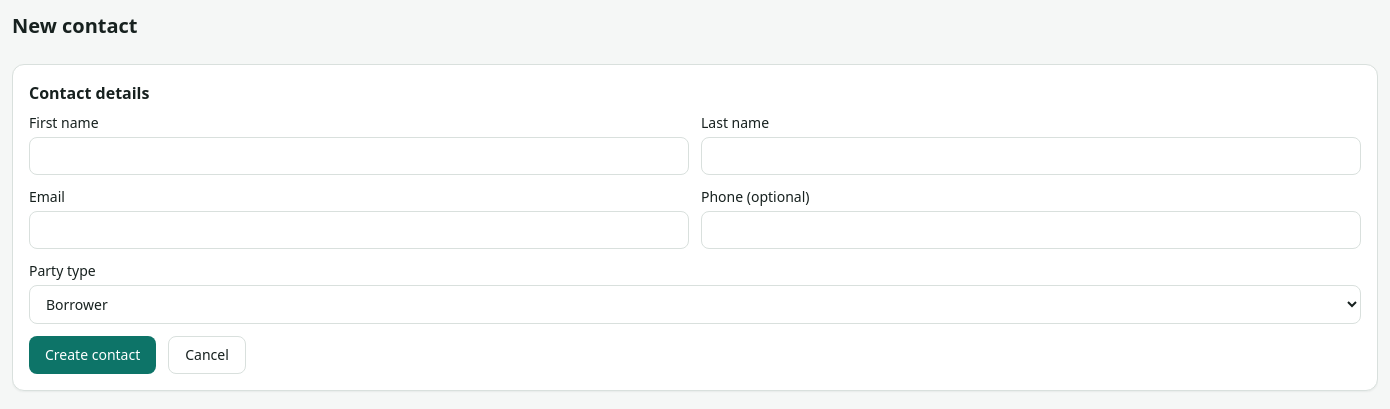
ContactFormPage › creates a contact and returns to the list
Type "Ann" into the field labelled "First name" at (359, 156), box [29, 137, 689, 175]
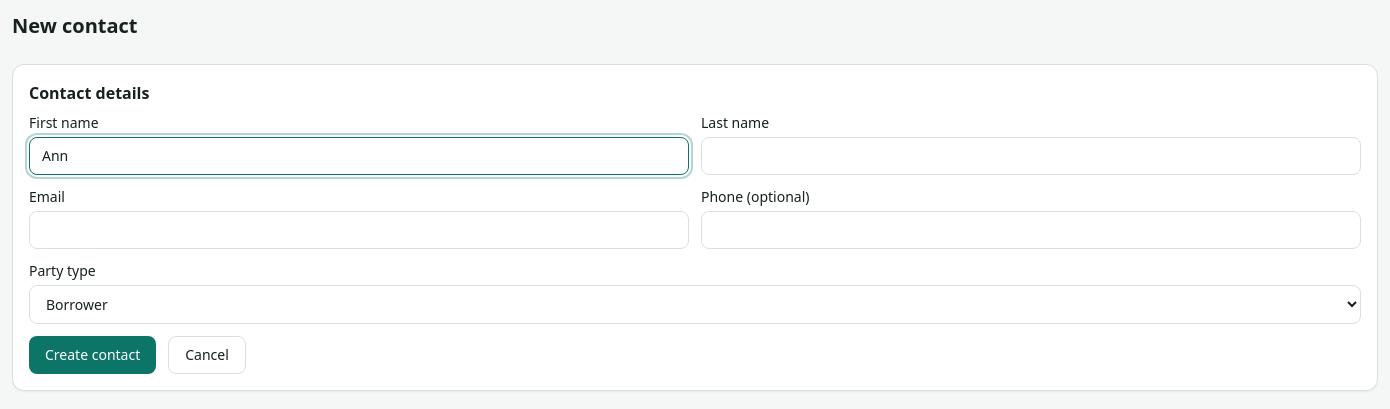
Type "Lee" into the field labelled "Last name" at (1031, 156), box [701, 137, 1361, 175]
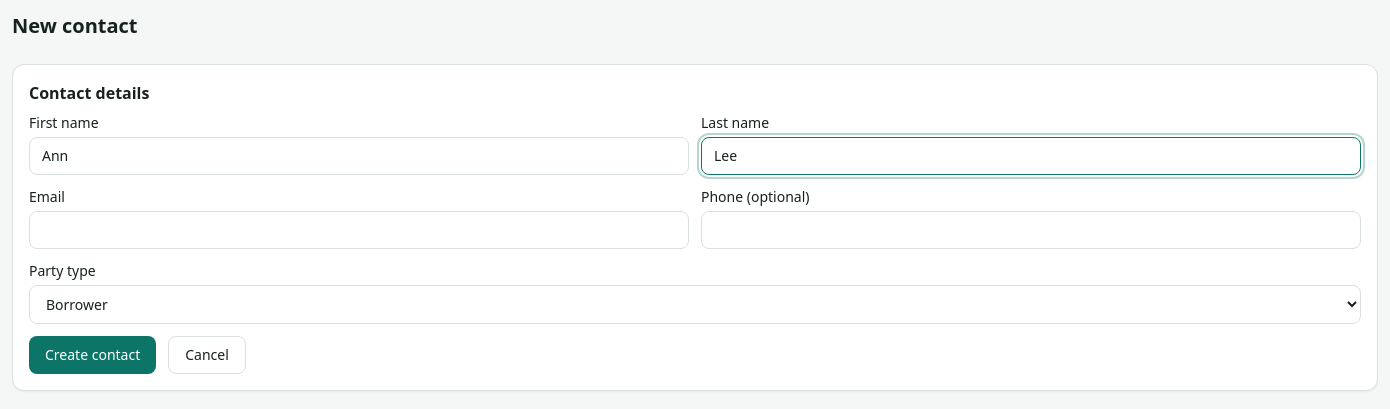
Type "ann@example.com" into the field labelled "Email" at (359, 230), box [29, 211, 689, 249]
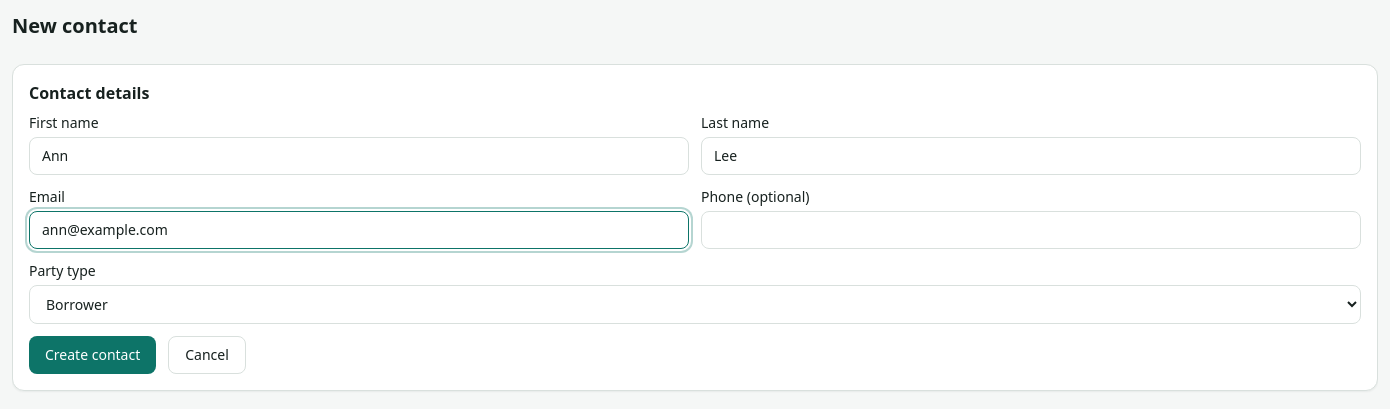
Select "Guarantor" in the dropdown labelled "Party type" at (695, 304), box [29, 285, 1361, 324]
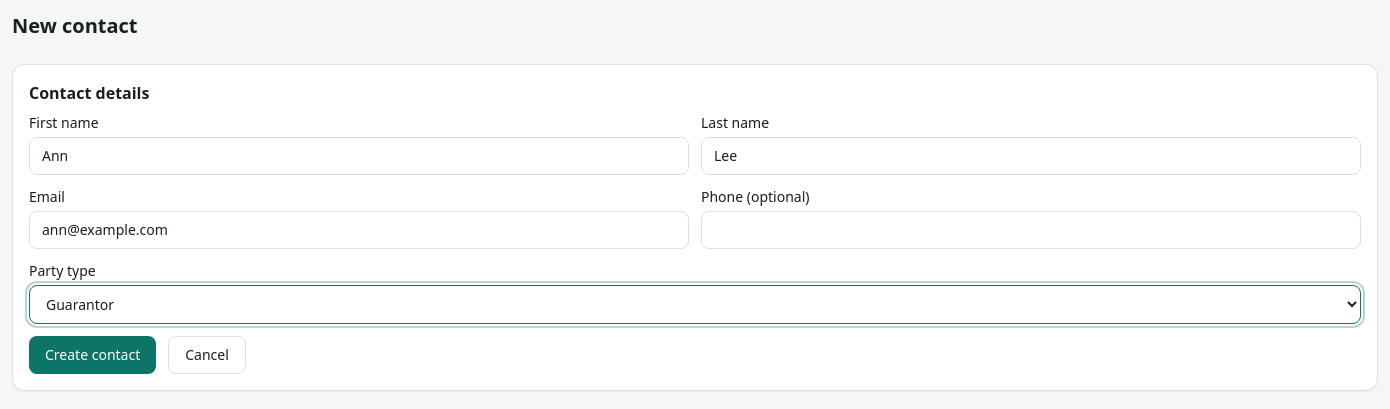
Click the button "Create contact" at (93, 355), box [29, 336, 156, 374]
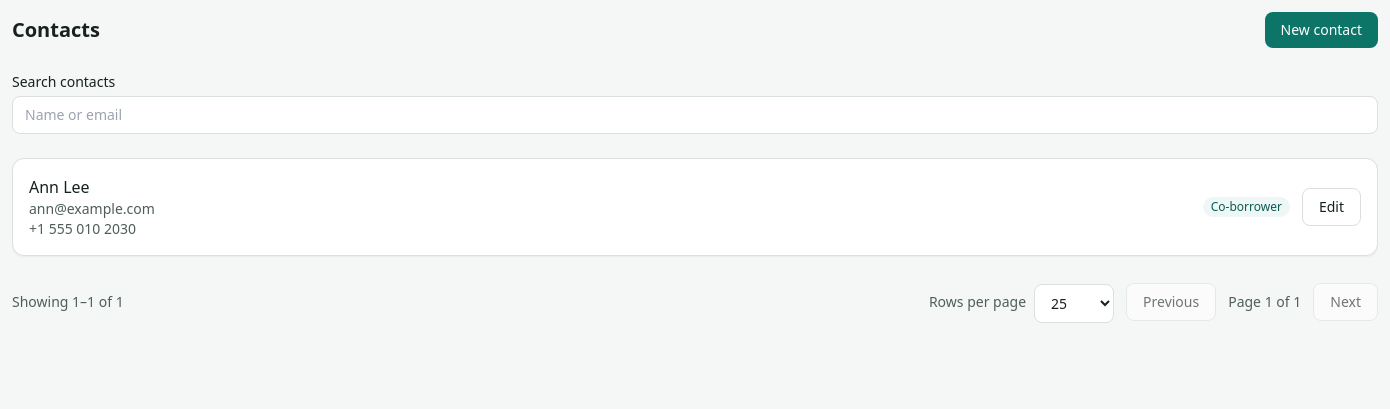
Result: the list named "Contacts" is shown at [12, 158, 1378, 256]
